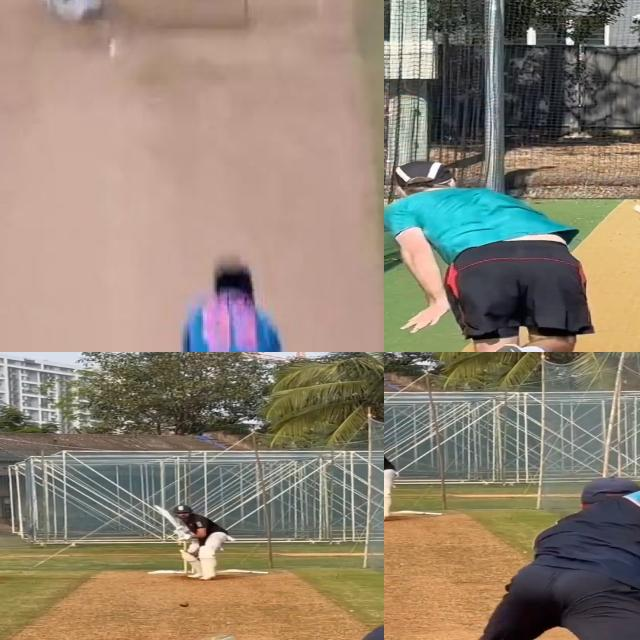Cricket ball: (108, 39, 124, 64), (632, 202, 640, 214), (179, 602, 190, 608)
